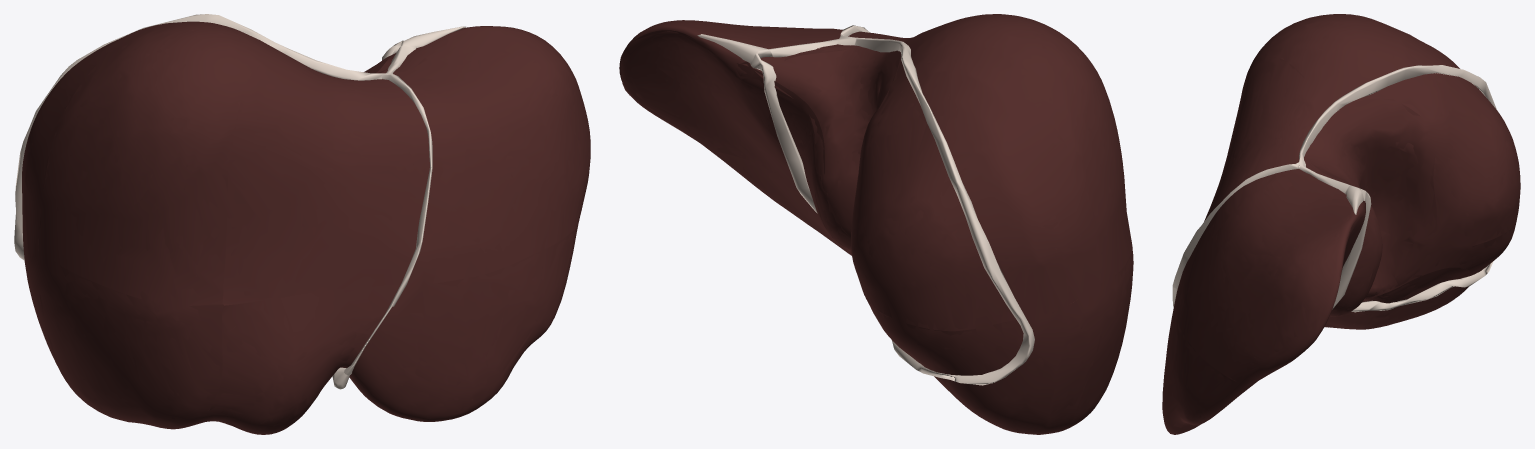
Rendered from liver-female.lod1.glb.
The picture shows the model from 3 angles, left to right: view 1: azimuth 30°, elevation 25°; view 2: azimuth 150°, elevation 25°; view 3: azimuth 270°, elevation 25°; orthographic projection. The views are drawn at different scales.
Parts seen in each view (by area): view 1: VH_F_capsule_of_the_liver, VH_F_left_superomedial_segment1, VH_F_left_superomedial_segment, VH_F_right_anterosuperior_segment, VH_F_left_inferomedial_segment, VH_F_right_anteroinferior_segment, VH_F_left_anterolateral_segment, VH_F_coronary_ligament_of_liver, VH_F_falciform_ligament, VH_F_right_posterosuperior_segment; view 2: VH_F_capsule_of_the_liver, VH_F_bare_area_of_liver, VH_F_right_posterosuperior_segment, VH_F_diaphragmatic_surface_of_liver, VH_F_coronary_ligament_of_liver, VH_F_left_superomedial_segment, VH_F_caudate_lobe, VH_F_right_posteroinferior_segment, VH_F_right_anterosuperior_segment, VH_F_ligamentum_venosum, VH_F_gastric_impression_of_liver, VH_F_left_anterolateral_segment (+2 smaller); view 3: VH_F_capsule_of_the_liver, VH_F_bare_area_of_liver, VH_F_left_superomedial_segment, VH_F_caudate_lobe, VH_F_left_superomedial_segment1, VH_F_right_posterosuperior_segment, VH_F_coronary_ligament_of_liver, VH_F_diaphragmatic_surface_of_liver, VH_F_left_anterolateral_segment, VH_F_falciform_ligament, VH_F_ligamentum_venosum, VH_F_right_posteroinferior_segment (+3 smaller).
Boxes of the visible parts, left/top/right/bottom form: VH_F_capsule_of_the_liver: left=22, top=21, right=590, bottom=434; VH_F_left_superomedial_segment1: left=222, top=56, right=433, bottom=305; VH_F_left_superomedial_segment: left=380, top=27, right=590, bottom=284; VH_F_right_anterosuperior_segment: left=38, top=23, right=278, bottom=305; VH_F_left_inferomedial_segment: left=209, top=284, right=398, bottom=433; VH_F_right_anteroinferior_segment: left=38, top=248, right=223, bottom=425; VH_F_left_anterolateral_segment: left=356, top=226, right=577, bottom=419; VH_F_coronary_ligament_of_liver: left=14, top=14, right=413, bottom=260; VH_F_falciform_ligament: left=344, top=73, right=432, bottom=375; VH_F_right_posterosuperior_segment: left=22, top=28, right=148, bottom=247; VH_F_capsule_of_the_liver: left=619, top=14, right=1133, bottom=434; VH_F_bare_area_of_liver: left=749, top=47, right=1023, bottom=375; VH_F_right_posterosuperior_segment: left=851, top=61, right=1101, bottom=331; VH_F_diaphragmatic_surface_of_liver: left=619, top=30, right=997, bottom=426; VH_F_coronary_ligament_of_liver: left=769, top=36, right=1034, bottom=385; VH_F_left_superomedial_segment: left=622, top=20, right=842, bottom=176; VH_F_caudate_lobe: left=778, top=47, right=899, bottom=250; VH_F_right_posteroinferior_segment: left=866, top=283, right=1102, bottom=434; VH_F_right_anterosuperior_segment: left=894, top=16, right=1132, bottom=282; VH_F_ligamentum_venosum: left=751, top=53, right=817, bottom=213; VH_F_gastric_impression_of_liver: left=665, top=60, right=851, bottom=255; VH_F_left_anterolateral_segment: left=716, top=151, right=850, bottom=251; VH_F_capsule_of_the_liver: left=1162, top=14, right=1472, bottom=434; VH_F_bare_area_of_liver: left=1306, top=74, right=1520, bottom=298; VH_F_left_superomedial_segment: left=1176, top=172, right=1365, bottom=382; VH_F_caudate_lobe: left=1305, top=98, right=1439, bottom=315; VH_F_left_superomedial_segment1: left=1196, top=57, right=1323, bottom=245; VH_F_right_posterosuperior_segment: left=1392, top=32, right=1520, bottom=253; VH_F_coronary_ligament_of_liver: left=1299, top=65, right=1496, bottom=312; VH_F_diaphragmatic_surface_of_liver: left=1170, top=201, right=1495, bottom=433; VH_F_left_anterolateral_segment: left=1162, top=302, right=1238, bottom=430; VH_F_falciform_ligament: left=1172, top=162, right=1299, bottom=306; VH_F_ligamentum_venosum: left=1332, top=189, right=1371, bottom=309; VH_F_right_posteroinferior_segment: left=1387, top=224, right=1514, bottom=325.
Bounding box in the file's own units: 0.2471 × 0.17 × 0.1662.
